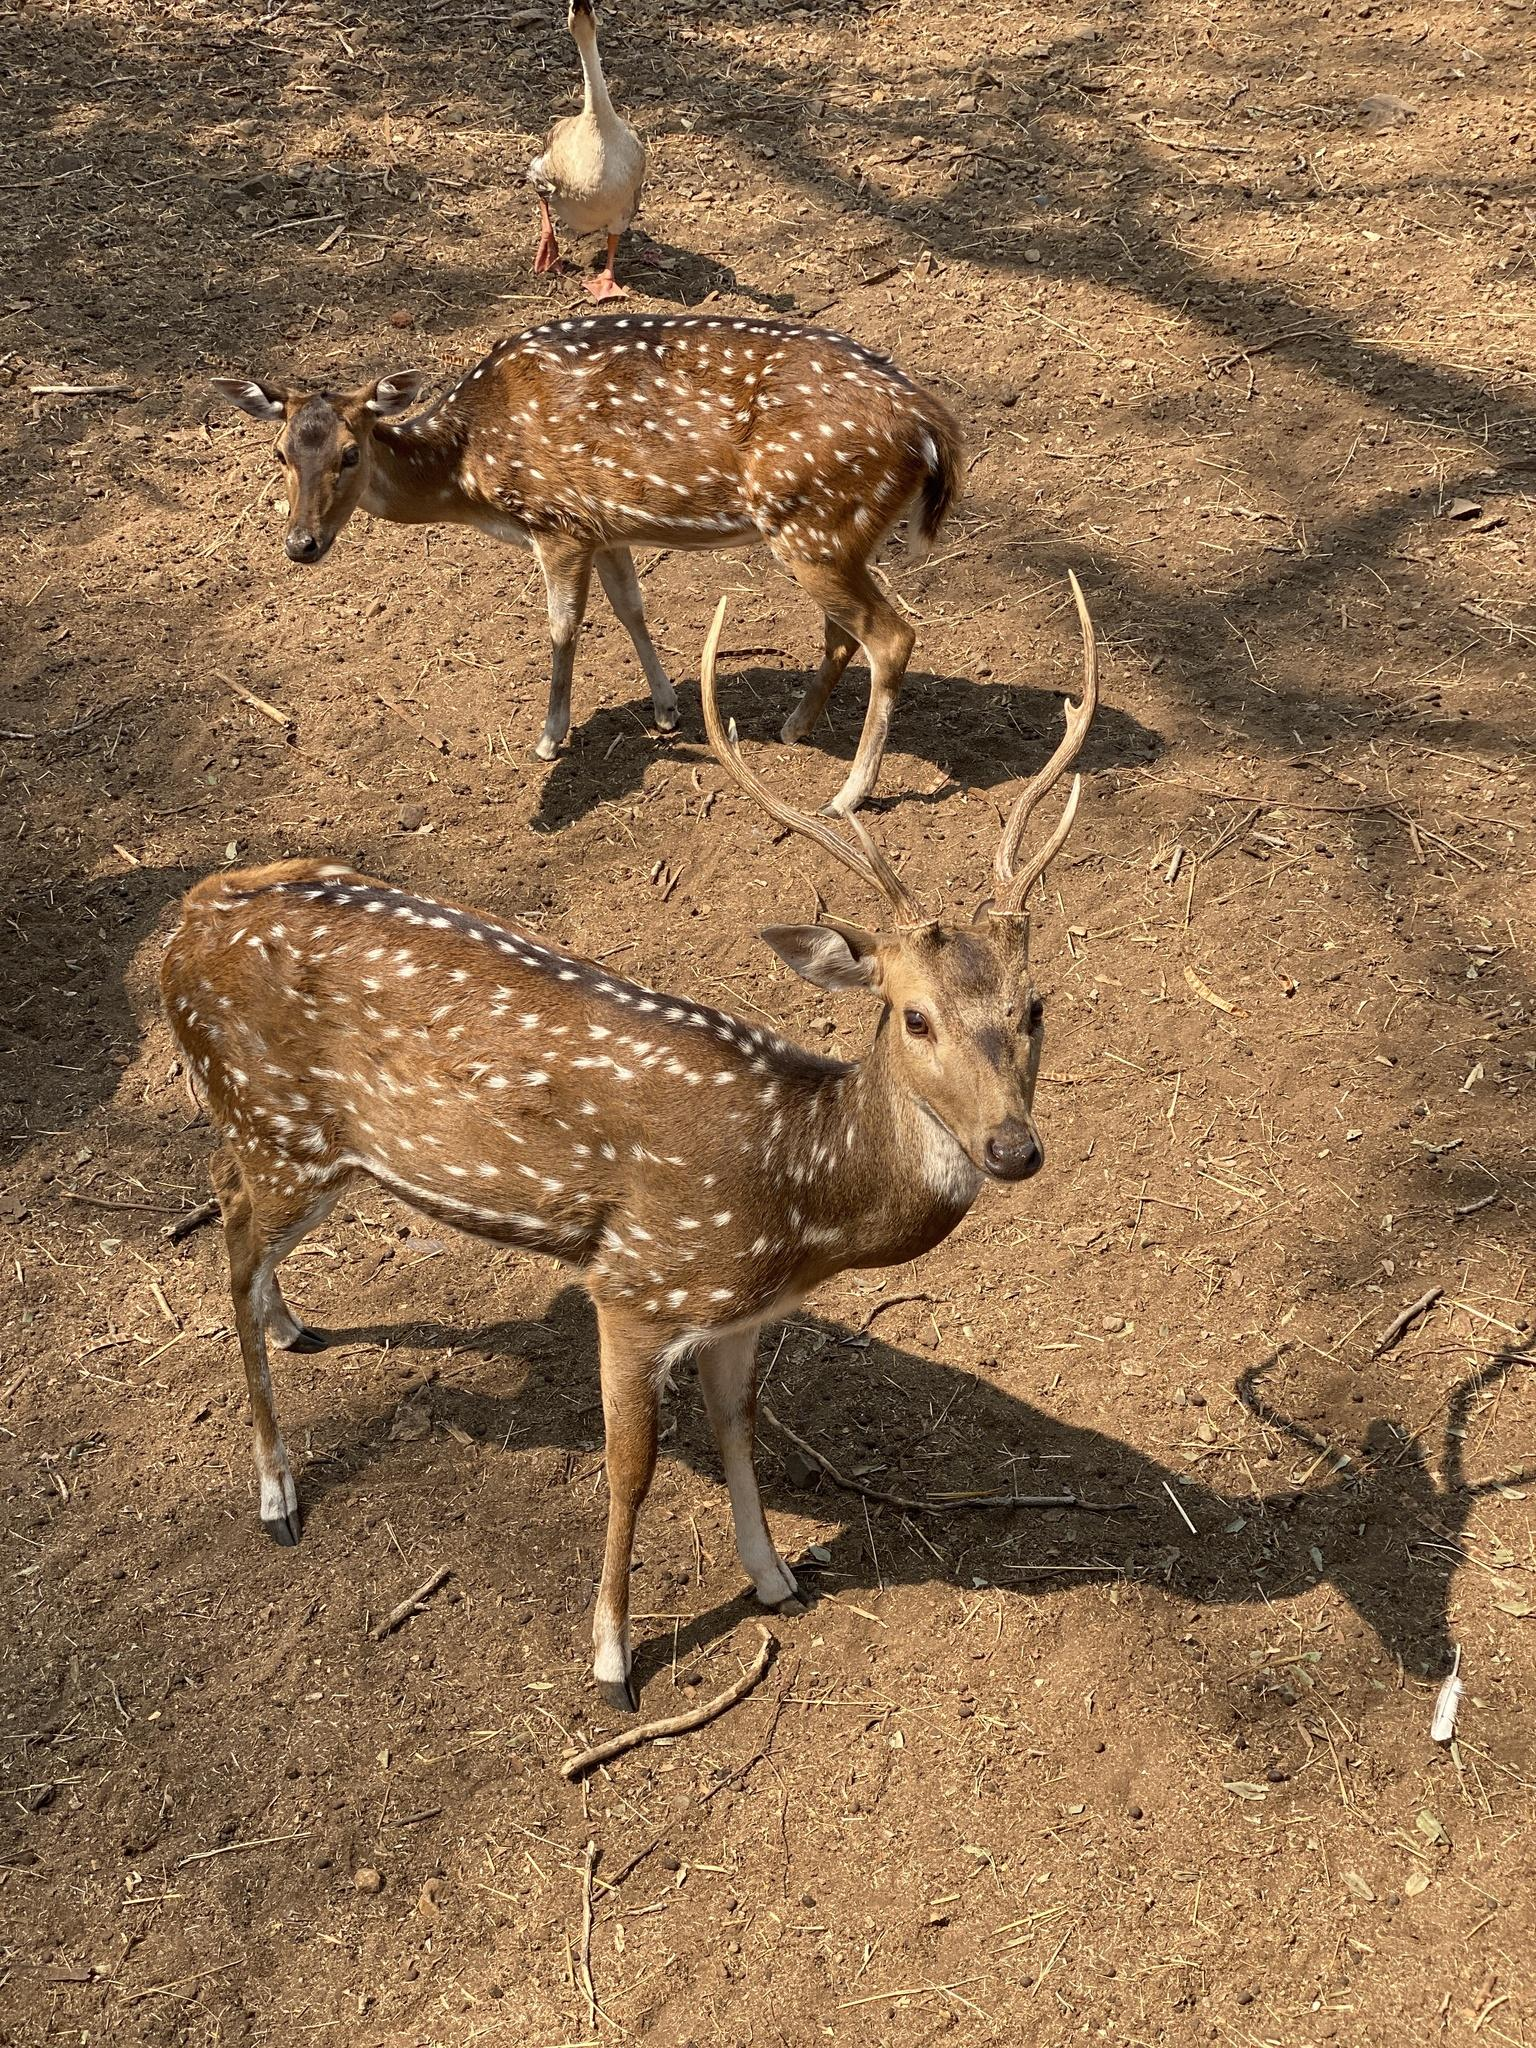Deer: (160, 571, 1097, 1708), (211, 311, 963, 822)
